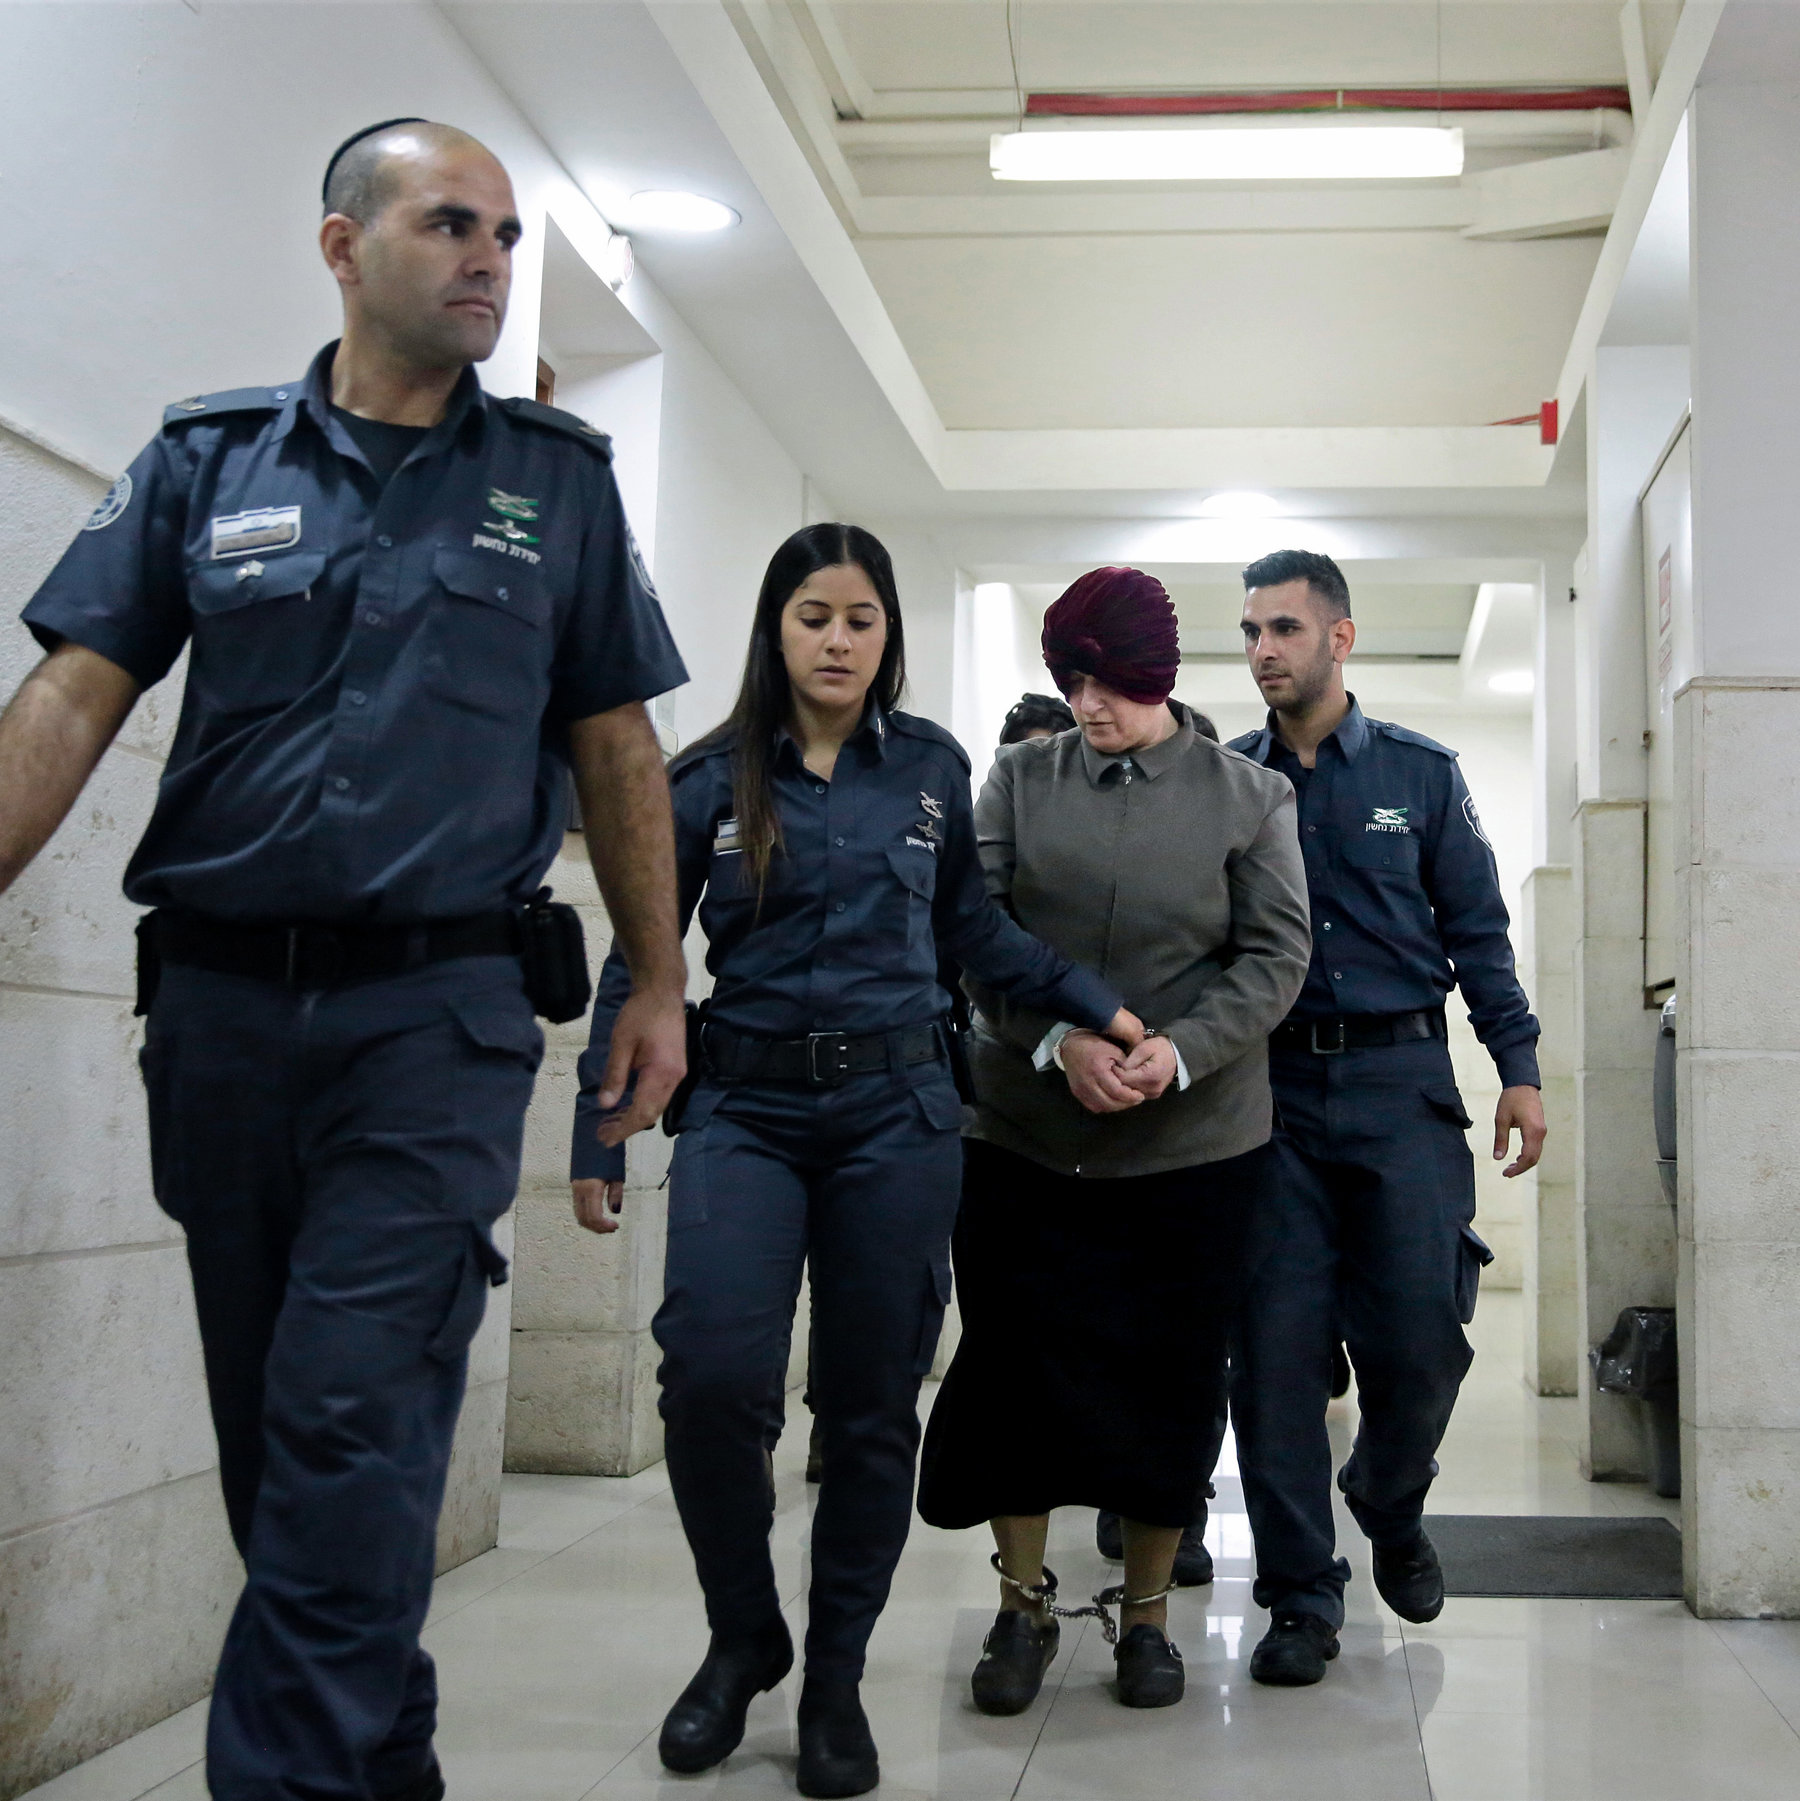Person: (7, 81, 690, 1801), (575, 504, 1143, 1781), (936, 529, 1330, 1768), (1204, 497, 1588, 1704)
